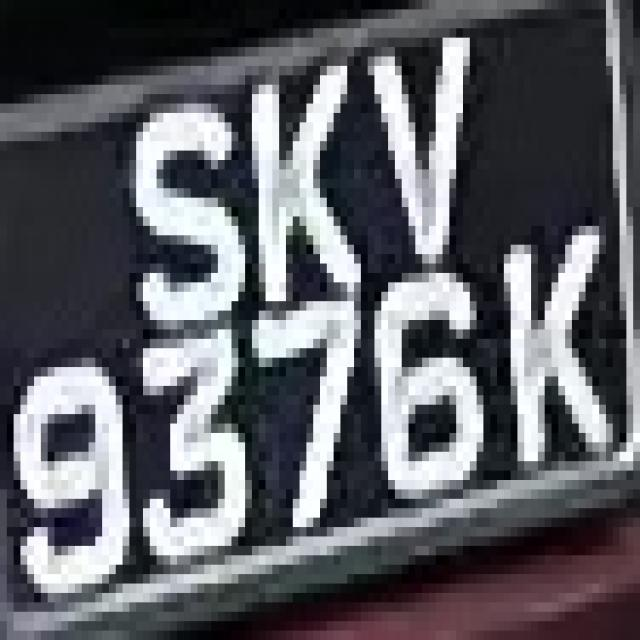3: (130, 311, 266, 584)
6: (368, 235, 477, 546)
7: (245, 282, 354, 546)
9: (7, 338, 150, 630)
K: (232, 38, 368, 320), (483, 226, 613, 508)
S: (123, 66, 238, 339)
V: (361, 0, 490, 301)
